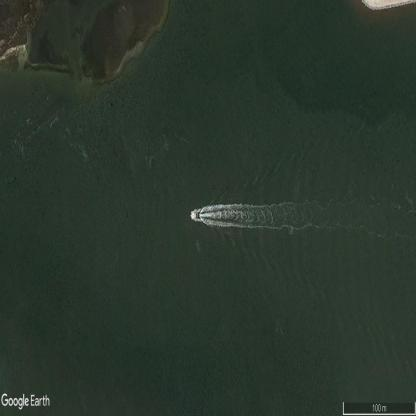ship: (190, 212, 200, 219)
